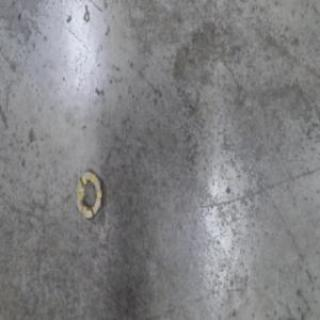Nuttrack_idkeyframe: (73, 169, 104, 221)
